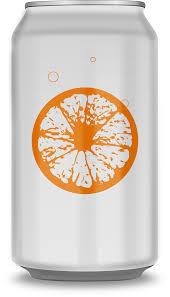Aluminum can: (9, 0, 170, 287)
